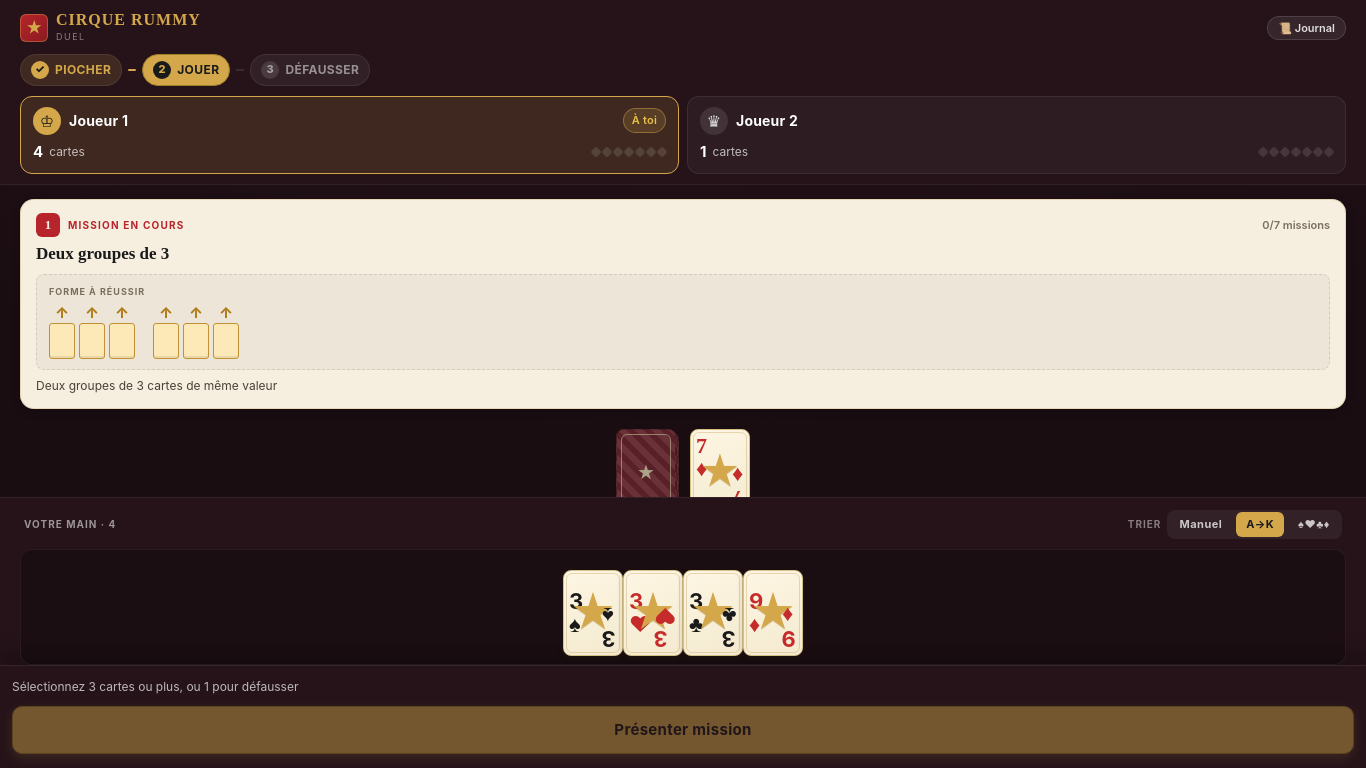
Test: un refus se voit à l'écran › affiche pourquoi la pose est refusée
Click the button named "3 de pique".
click(593, 612)  # box [563,570,623,656]
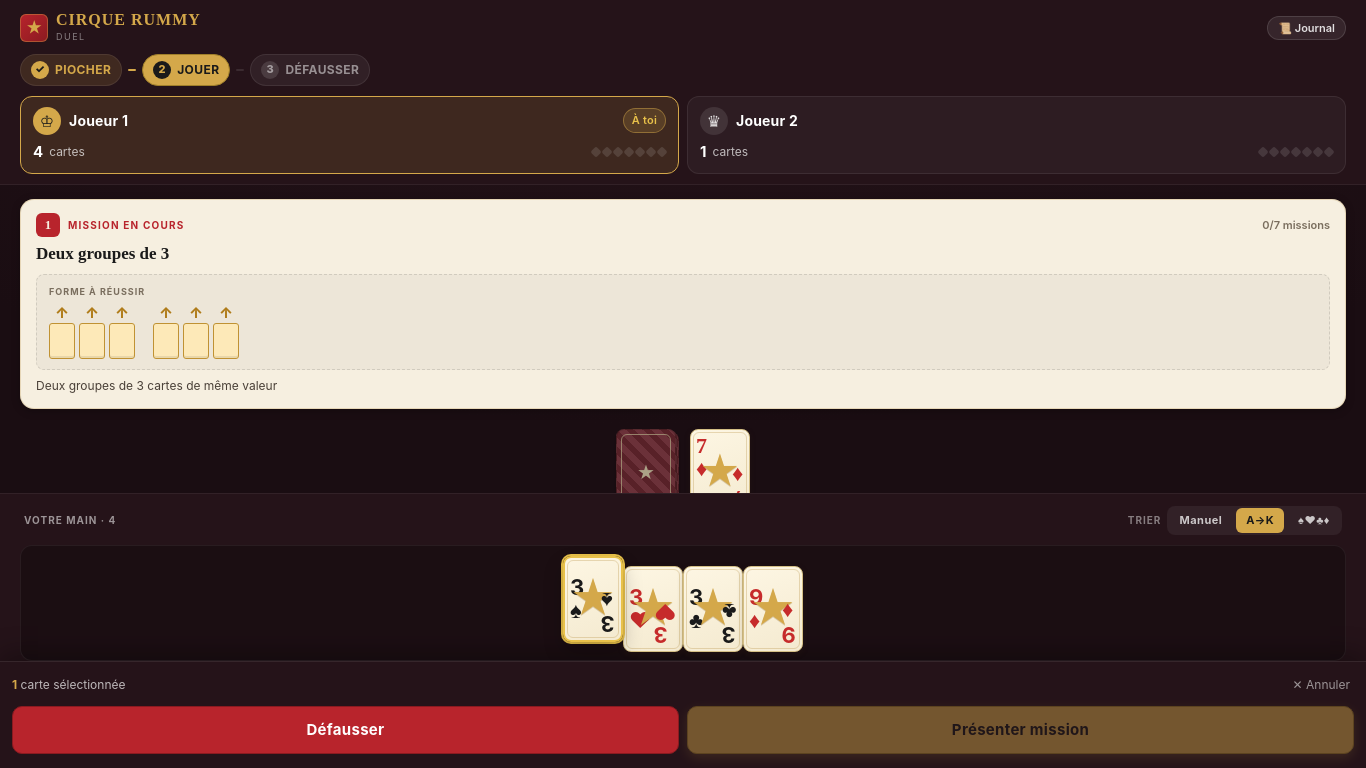
Click the button named "3 de trèfle".
click(713, 608)  # box [683,566,743,652]
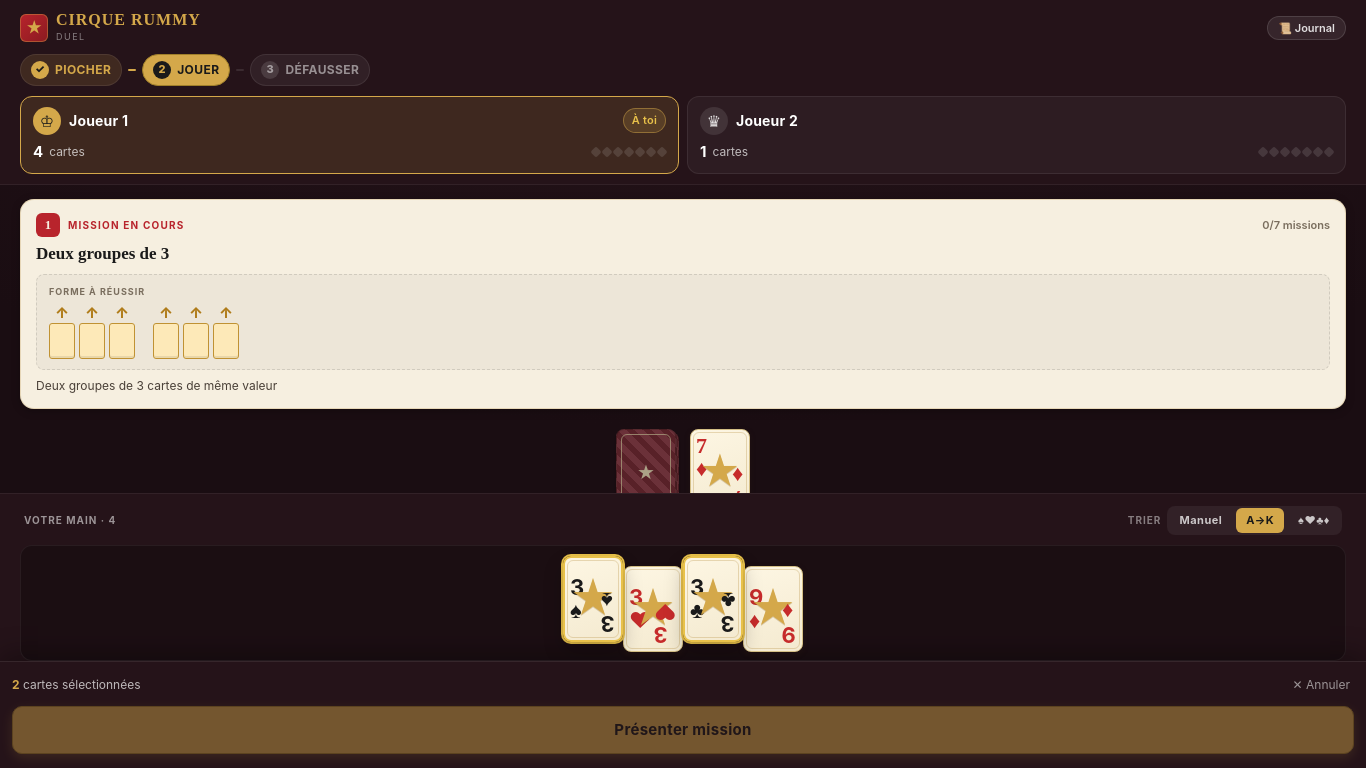
Click the button named "3 de cœur".
click(653, 608)  # box [623,566,683,652]
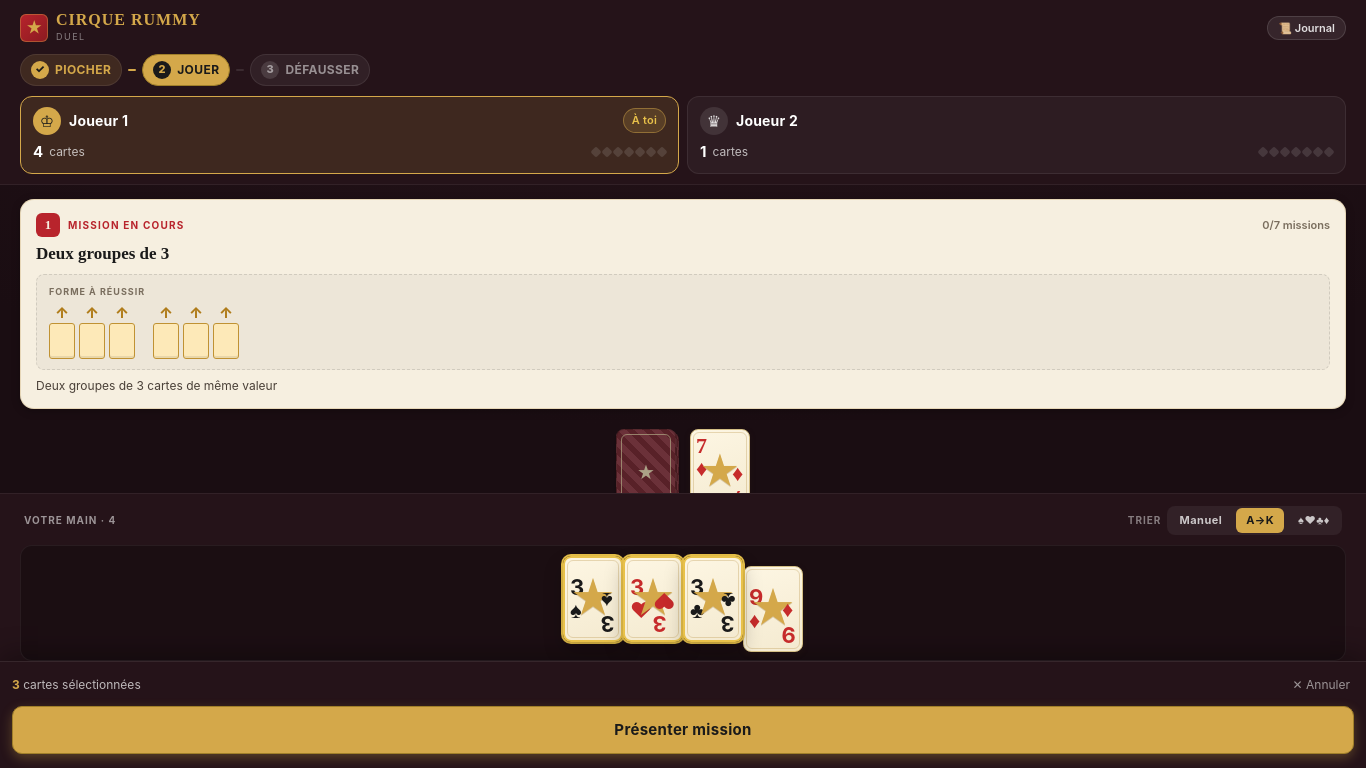
Click the button "Présenter mission".
click(683, 730)  # box [12,706,1354,754]
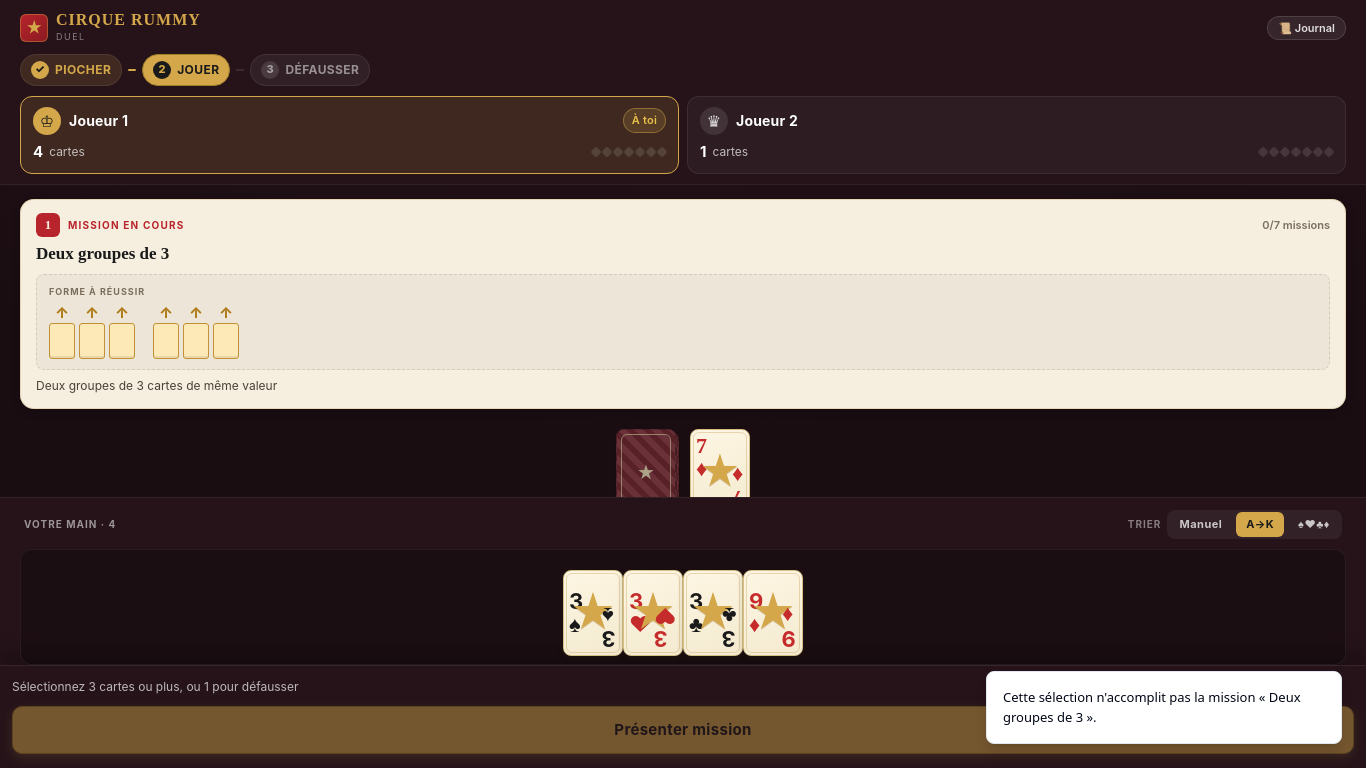
Check: the text "n'accomplit pas la mission" is shown, box [1003,688,1301,726]
